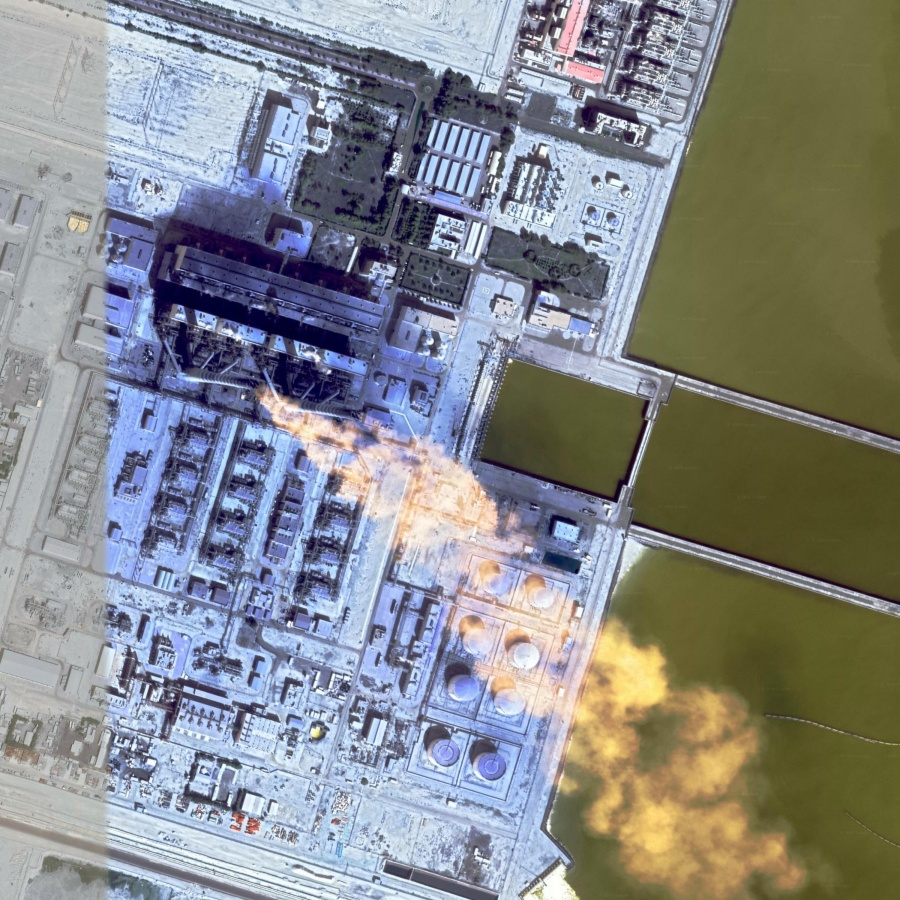PowerPlant: (46, 192, 594, 824)
